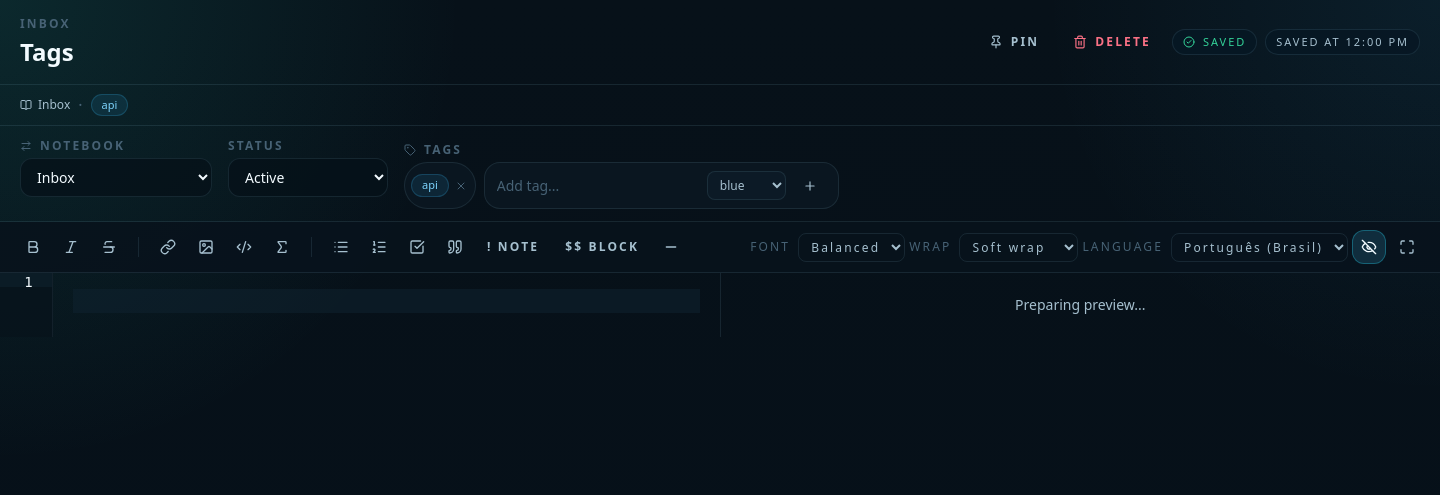
NoteEditor › rejects duplicate tags without persisting a new save
Type "API" into the field named "New tag name" at point(598, 186), box top-left (497, 176), bottom-right (699, 196)
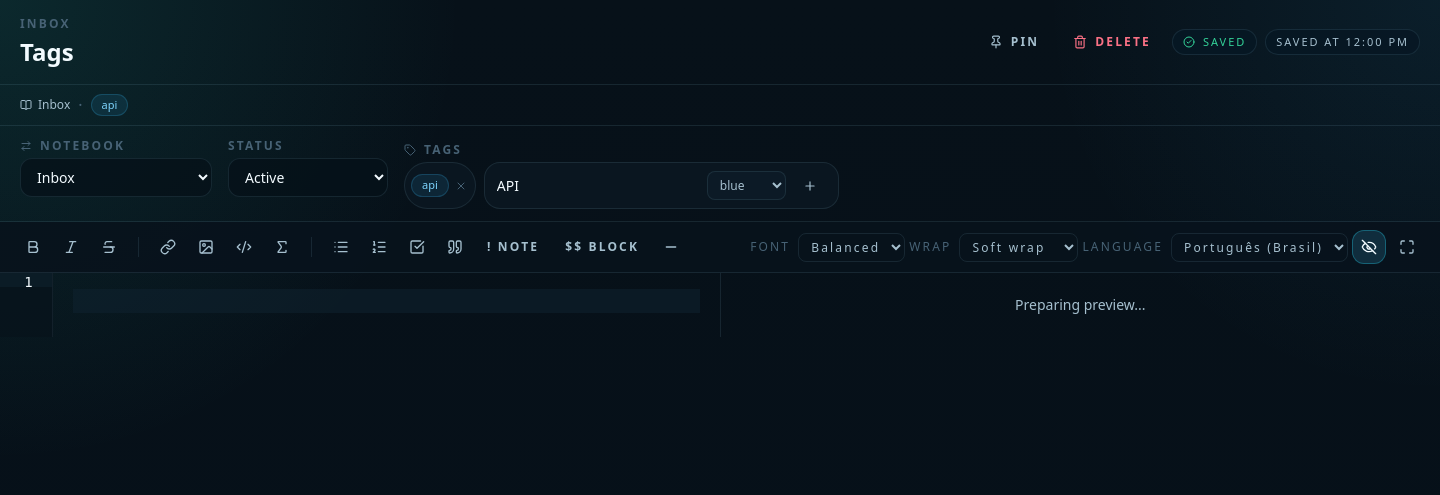
Click the button titled "Add tag" at point(810, 186), box top-left (794, 174), bottom-right (826, 198)
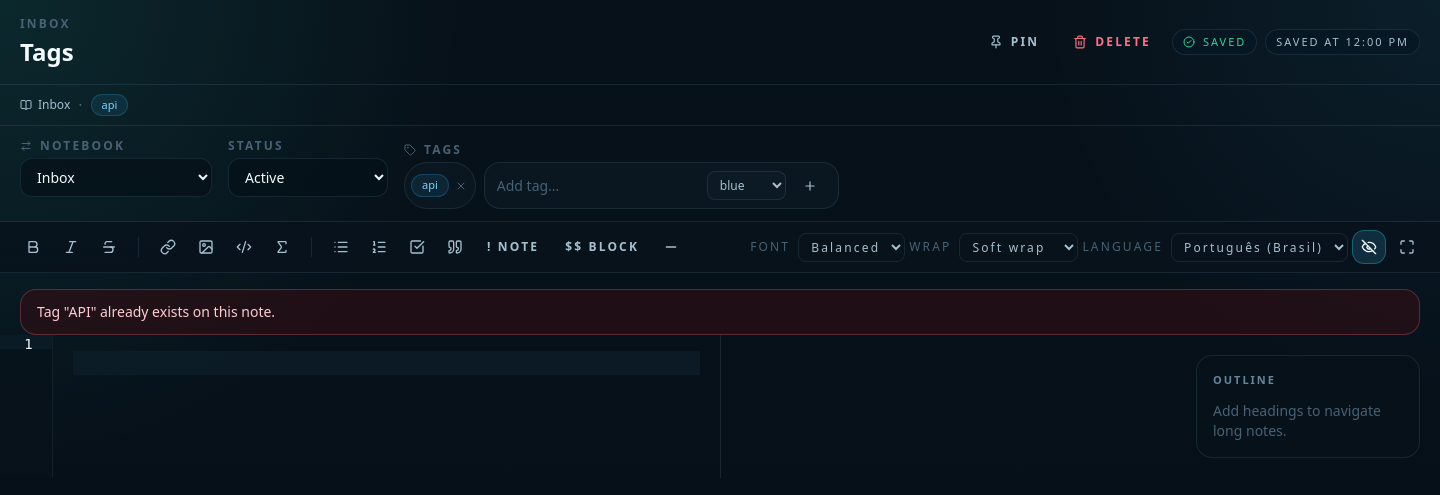
Result: the text "Tag \"API\" already exists on this note." is shown at top-left (20, 289), bottom-right (1420, 335)
